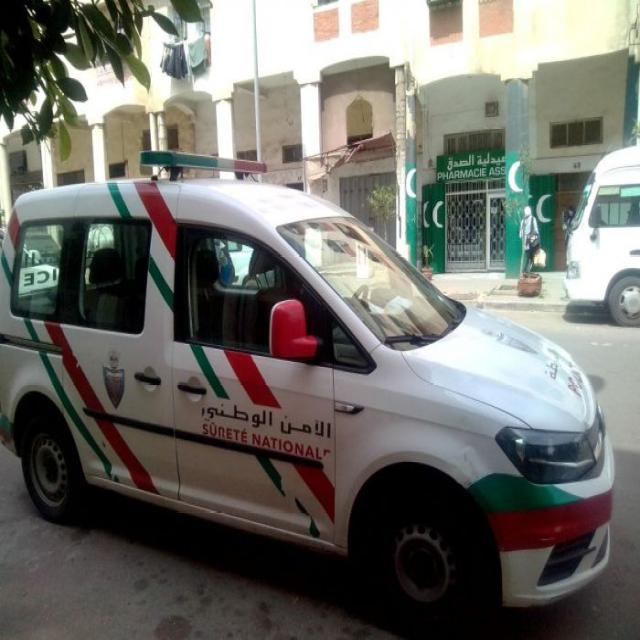police: (4, 152, 610, 622)
